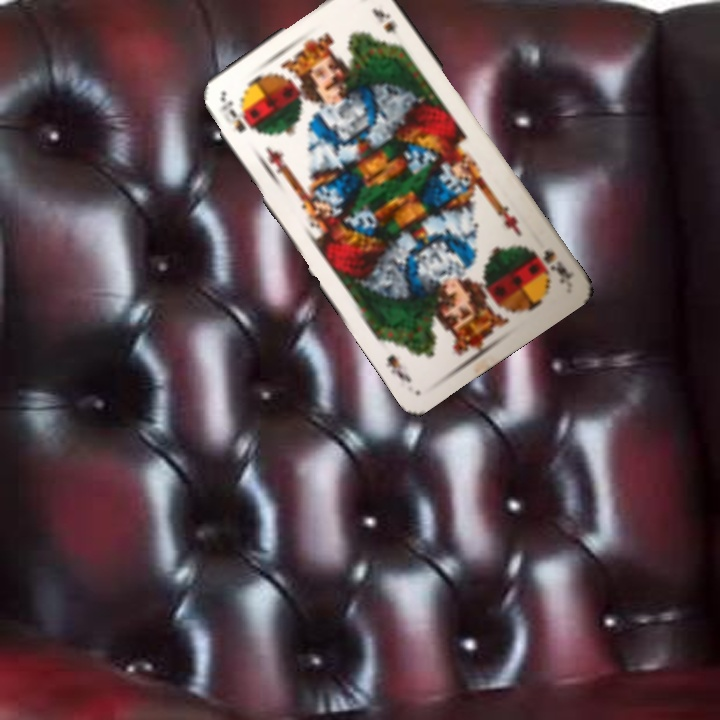SK: (528, 245, 577, 287), (216, 95, 249, 135)
